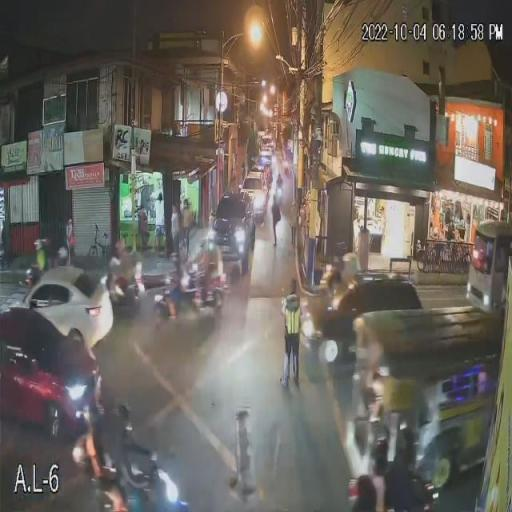helmet: (94, 404, 112, 418), (198, 246, 212, 260), (283, 289, 297, 301), (108, 256, 120, 267), (32, 238, 44, 248)
motorcycle: (86, 404, 190, 511), (346, 433, 443, 511), (186, 270, 230, 314), (152, 274, 192, 320), (106, 274, 144, 315)
rider: (83, 402, 136, 512), (358, 407, 400, 512), (166, 252, 200, 312), (194, 248, 224, 305), (106, 250, 136, 305), (27, 238, 52, 280)
